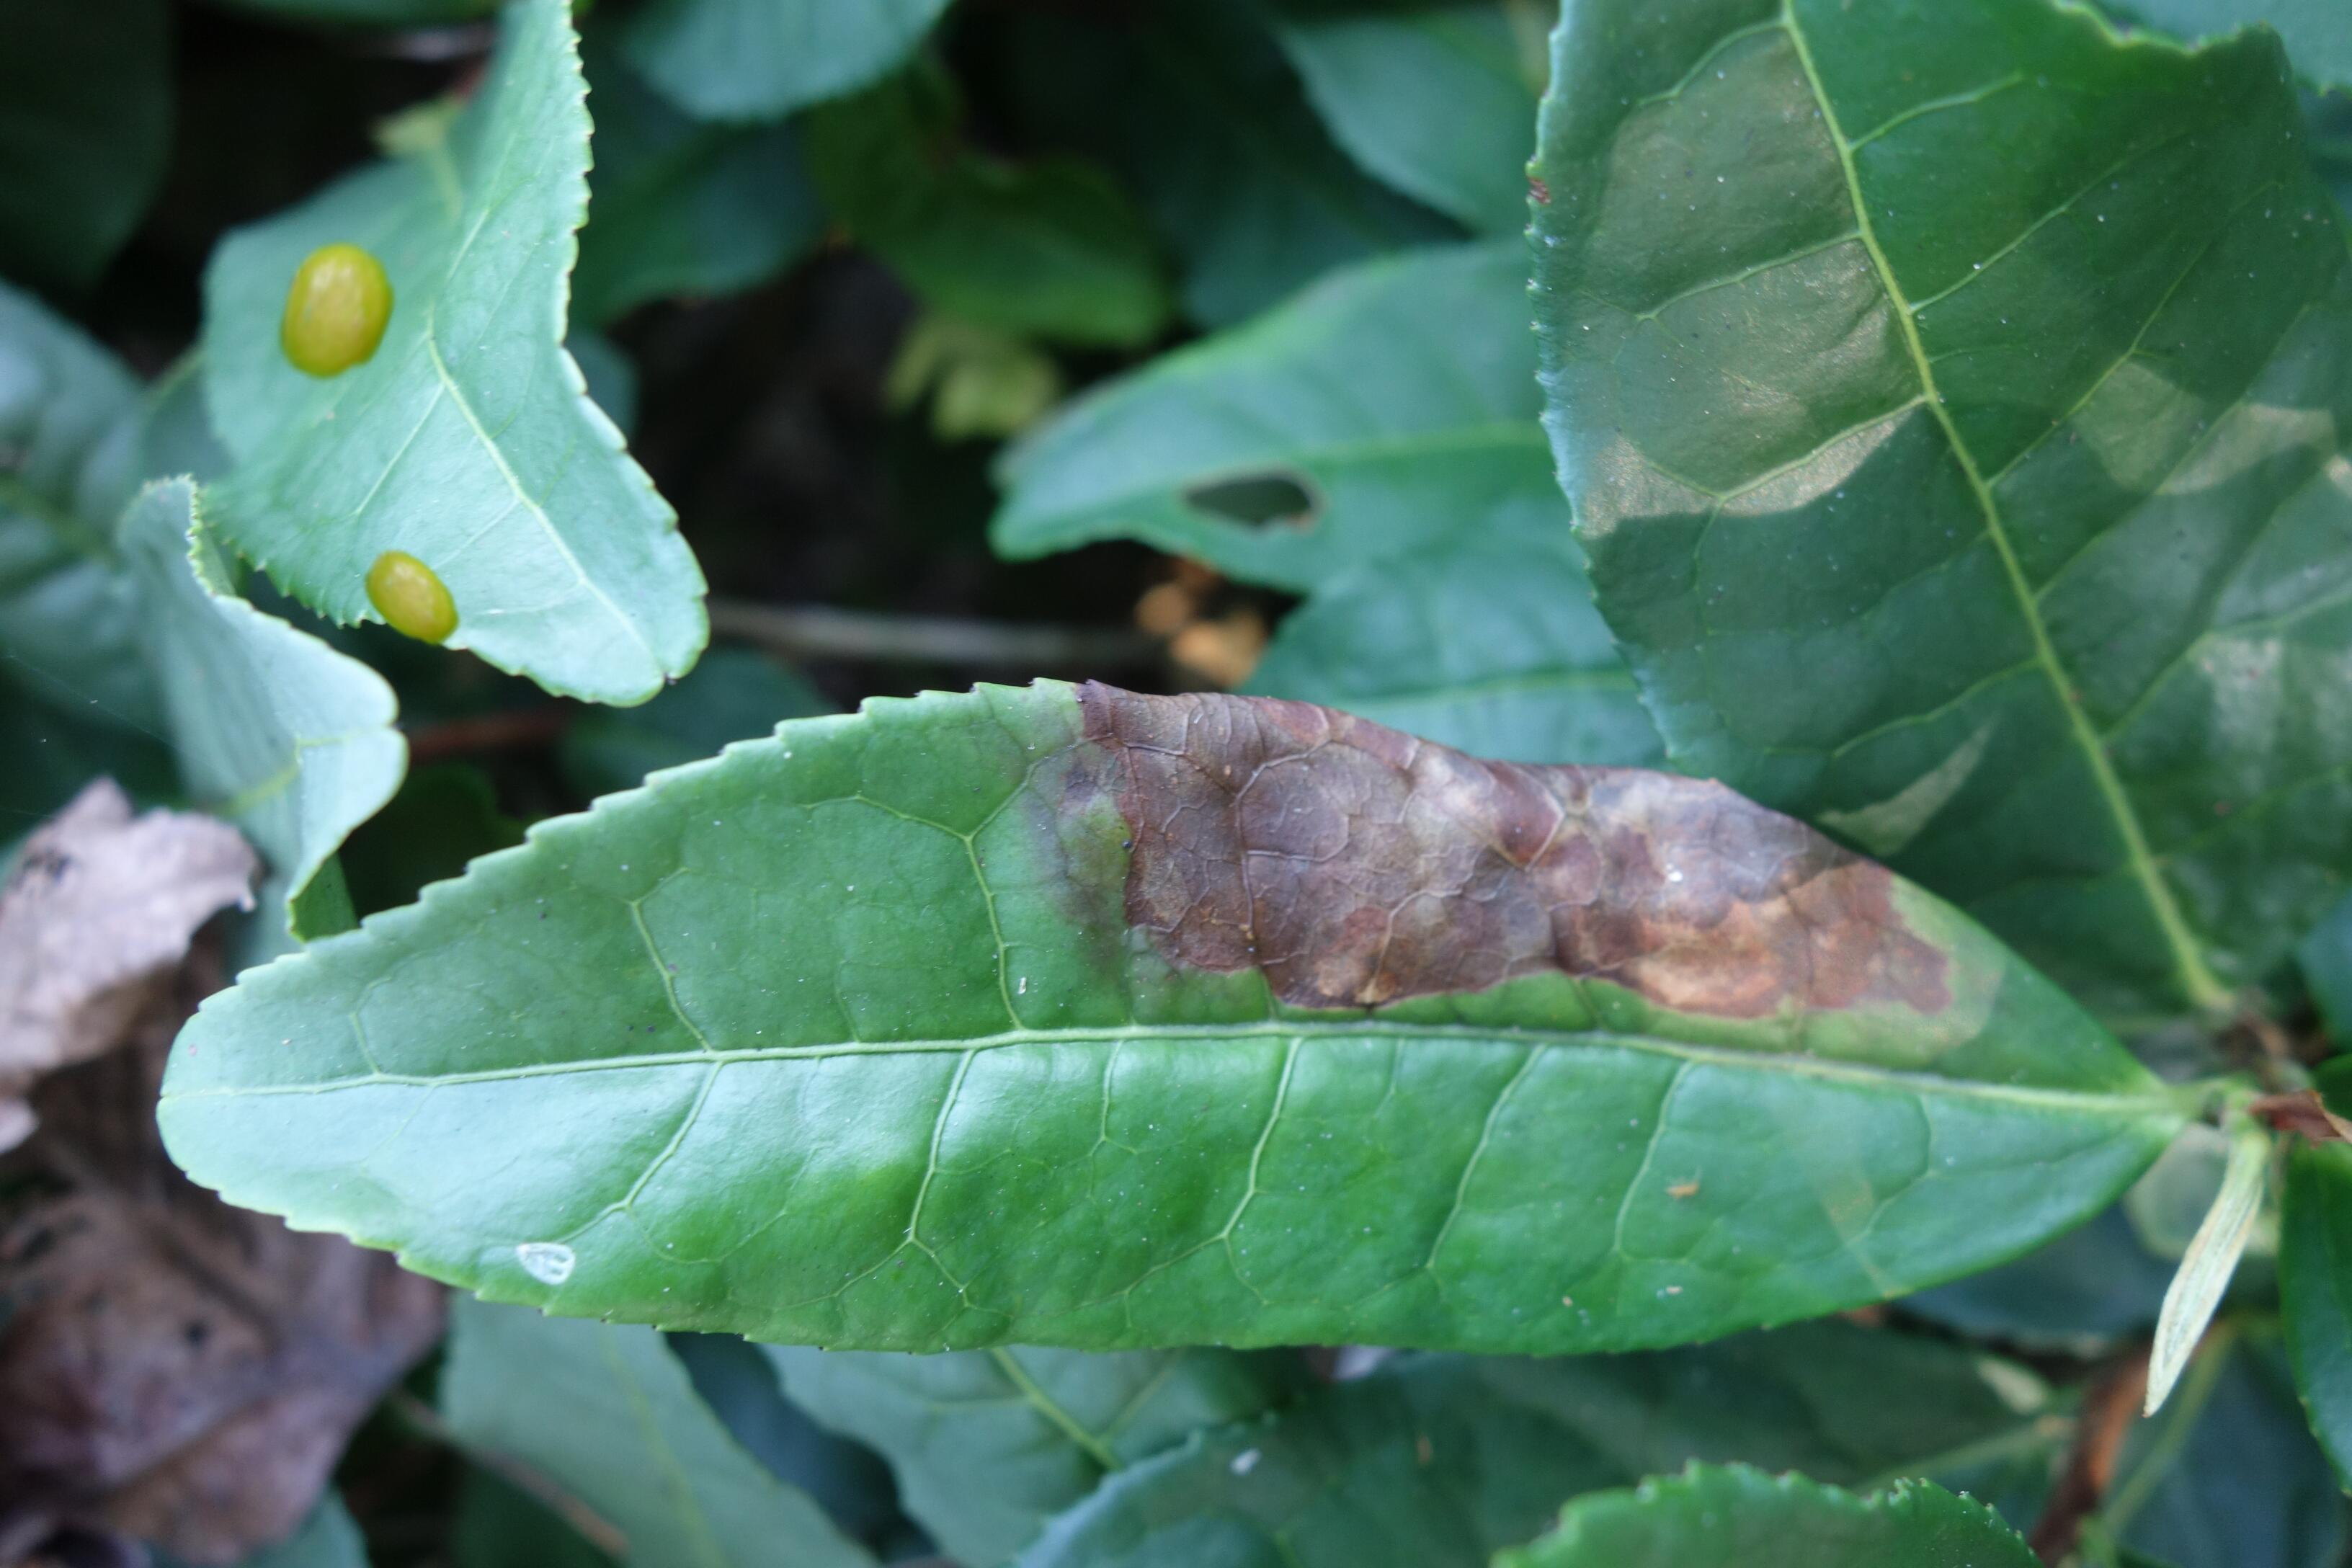chabing_high: (189, 3, 710, 707)
chihuo_low: (987, 245, 1587, 591)
tanju_high: (152, 677, 2180, 1356)
